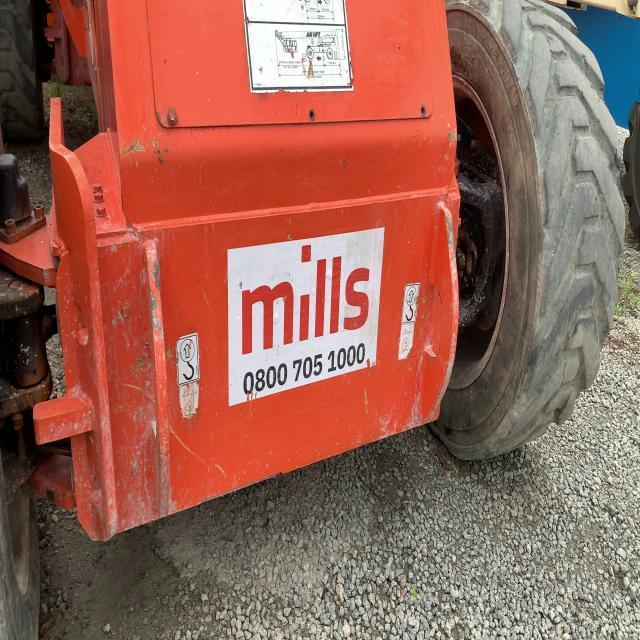Adesivos: (224, 221, 386, 417)
